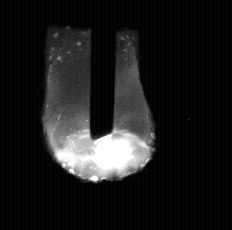arame: (91, 0, 114, 140)
poca: (54, 0, 152, 230)
